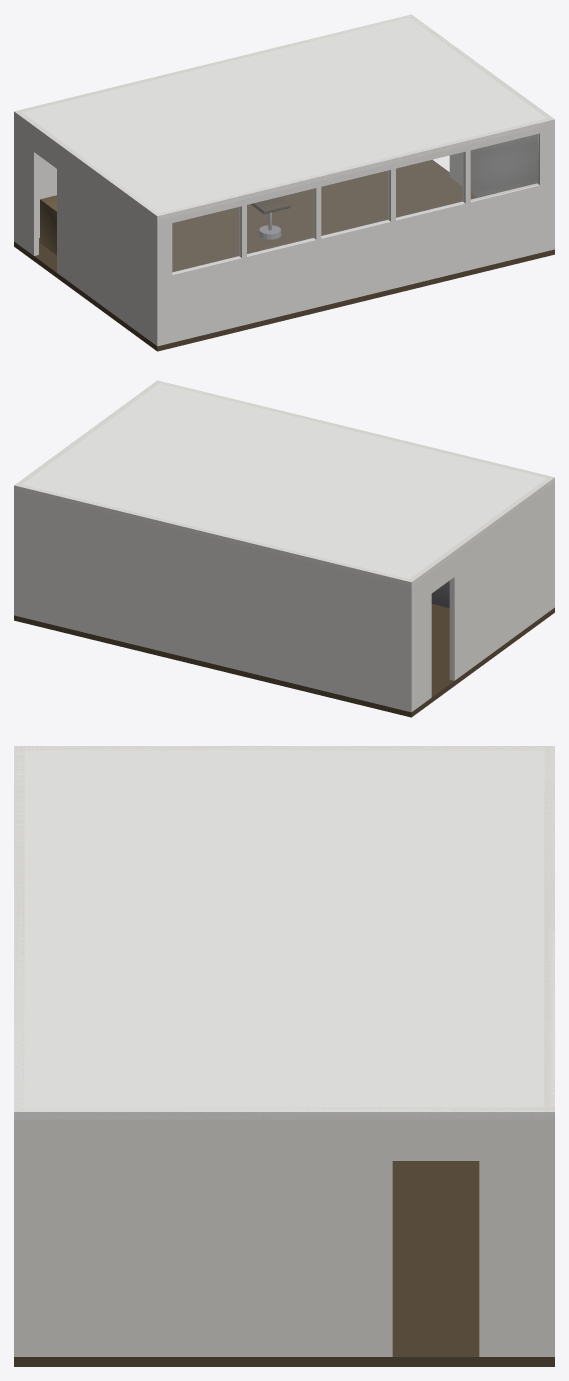
The model's file is BridgeCabin_v1.0_empty.fbx.
3 renders of one model, top to bottom at view 1: azimuth 30°, elevation 25°; view 2: azimuth 150°, elevation 25°; view 3: azimuth 270°, elevation 25°, orthographic. The views are drawn at different scales.
Parts seen in each view (by area): view 1: cabin_ceiling, wall_front, wall_left, cabin_floor, wall_right, window_glass_1, window_glass_3, window_glass_2, window_glass_5, window_glass_4, wall_back, chart_table (+1 smaller); view 2: cabin_ceiling, wall_back, wall_left, cabin_floor, wall_front, wall_right; view 3: cabin_ceiling, wall_right, cabin_floor, wall_back, wall_front, wall_left.
Part boxes in pixels (x1,y1,x2,y2): cabin_ceiling: [22, 14, 553, 220]; wall_front: [154, 117, 554, 346]; wall_left: [14, 111, 162, 345]; cabin_floor: [14, 159, 554, 351]; wall_right: [409, 14, 554, 197]; window_glass_1: [172, 207, 240, 273]; window_glass_3: [321, 170, 389, 236]; window_glass_2: [247, 188, 314, 255]; window_glass_5: [471, 134, 538, 200]; window_glass_4: [396, 152, 463, 218]; wall_back: [15, 14, 413, 243]; chart_table: [40, 195, 56, 255]; cabin_ceiling: [14, 381, 554, 586]; wall_back: [14, 483, 414, 712]; wall_left: [406, 476, 554, 711]; cabin_floor: [14, 604, 554, 717]; wall_front: [155, 380, 549, 477]; wall_right: [14, 380, 161, 616]; cabin_ceiling: [14, 746, 554, 1119]; wall_right: [14, 1107, 554, 1356]; cabin_floor: [14, 1161, 554, 1366]; wall_back: [544, 746, 554, 1356]; wall_front: [14, 746, 24, 1356]; wall_left: [14, 746, 554, 750].
Size of the model in its own units: 8 by 2.6 by 5.
